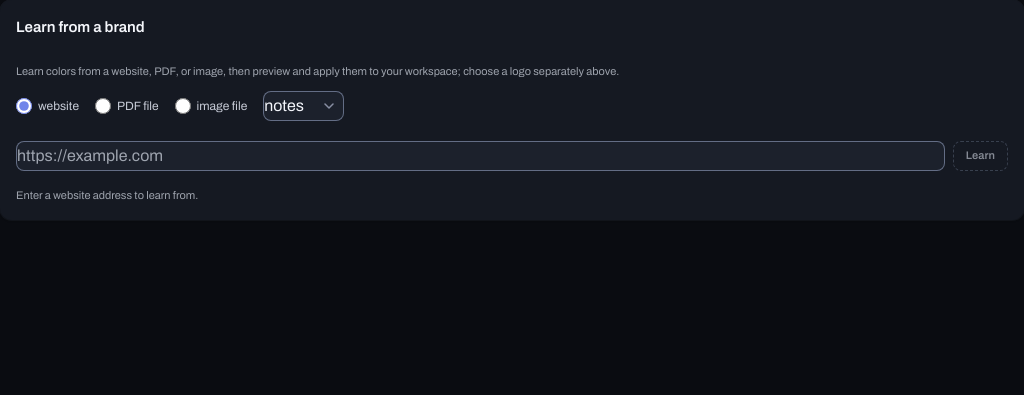
Test: BrandLearn — the restored /theme extraction flow › Cancel while "Preparing the scratch document…" creates nothing (studio#518)
Step 1. Type "https://example.org/" into the field with test id "learn-input" → (480, 156), box [16, 141, 945, 171]
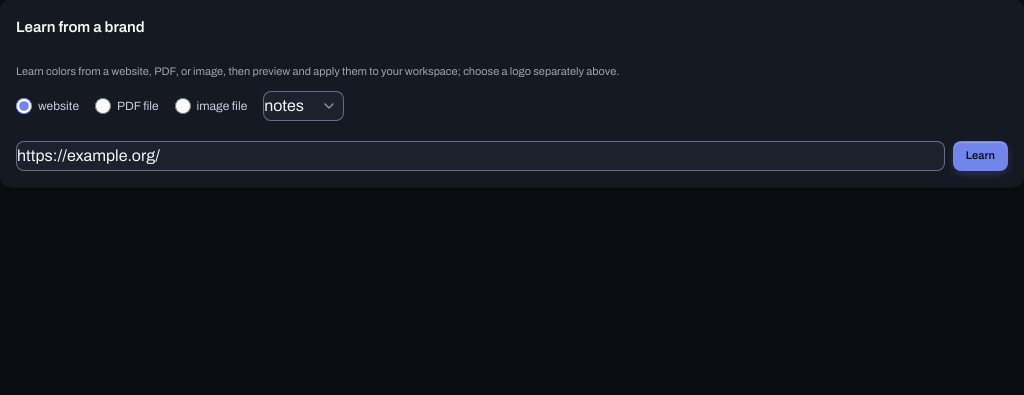
Step 2. Click the button with test id "learn-submit" → (980, 156), box [953, 141, 1008, 171]
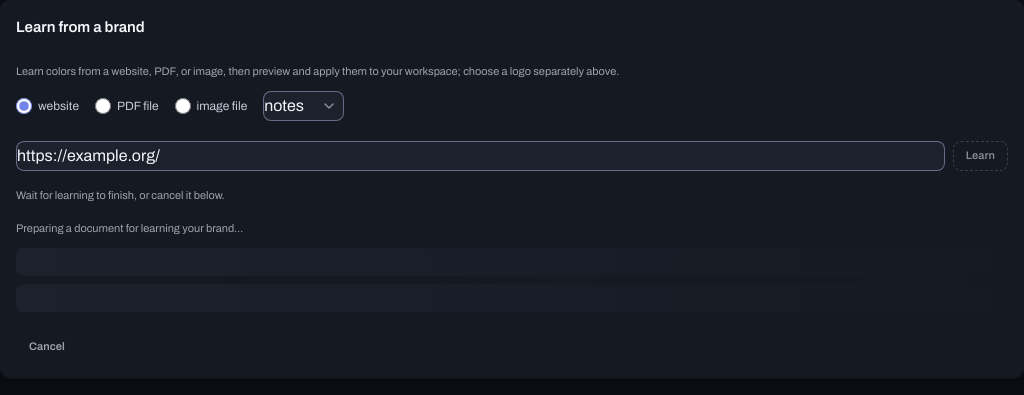
Now the message with test id "learn-status" shows "Preparing a document", box [16, 222, 243, 234]
Step 3. Click the button with test id "learn-cancel" → (47, 347), box [16, 332, 78, 362]
Wait 10000 ms
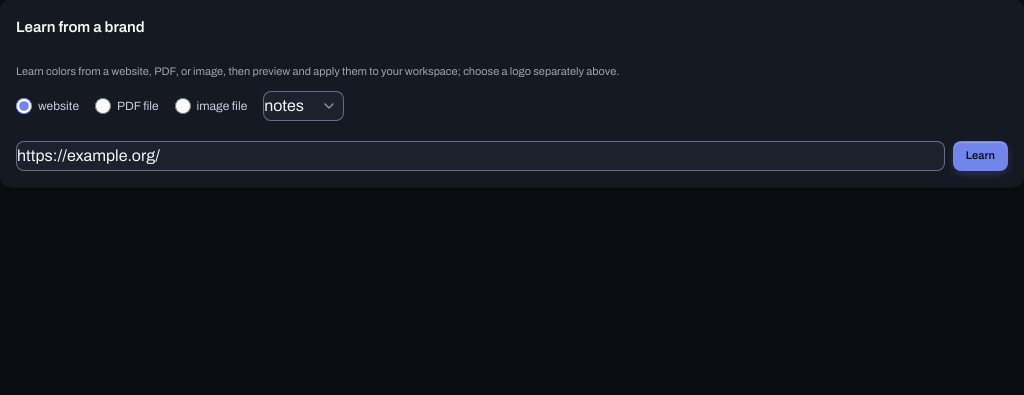
Now the message with test id "learn-status" is gone
